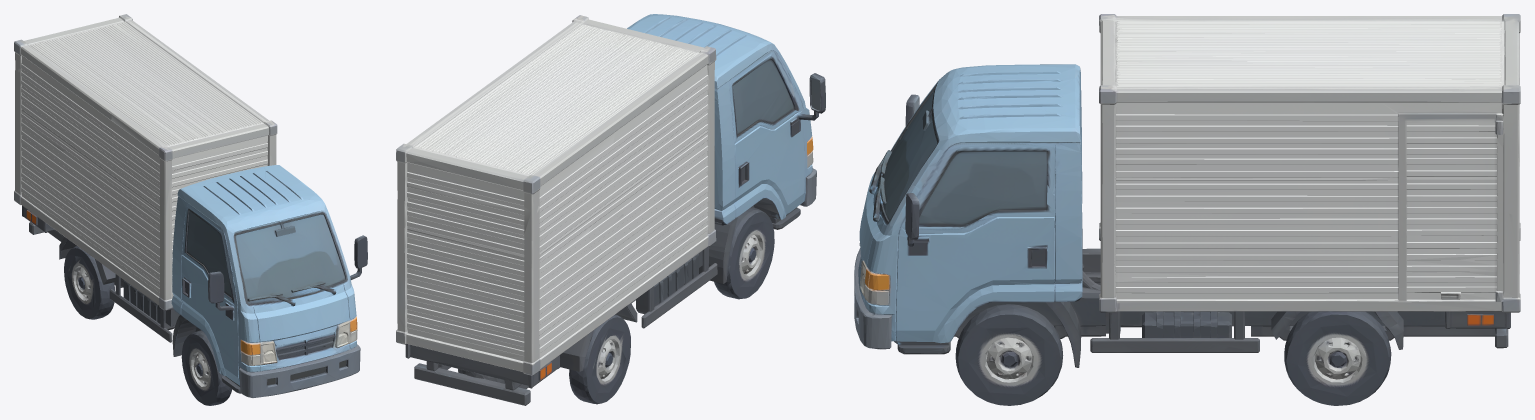
Rendered from truck_1ton_box.glb.
The picture shows the model from 3 angles, left to right: view 1: azimuth 30°, elevation 25°; view 2: azimuth 150°, elevation 25°; view 3: azimuth 270°, elevation 25°; orthographic projection. The views are drawn at different scales.
Parts seen in each view (by area): view 1: truck_1ton_box; view 2: truck_1ton_box; view 3: truck_1ton_box.
Part boxes in pixels (<box>): truck_1ton_box: <box>14,14,367,405</box>; truck_1ton_box: <box>396,14,825,405</box>; truck_1ton_box: <box>854,14,1520,405</box>.
Size of the model in its own units: 1.95 by 2.7 by 5.1.
1 material, 1 textured.
